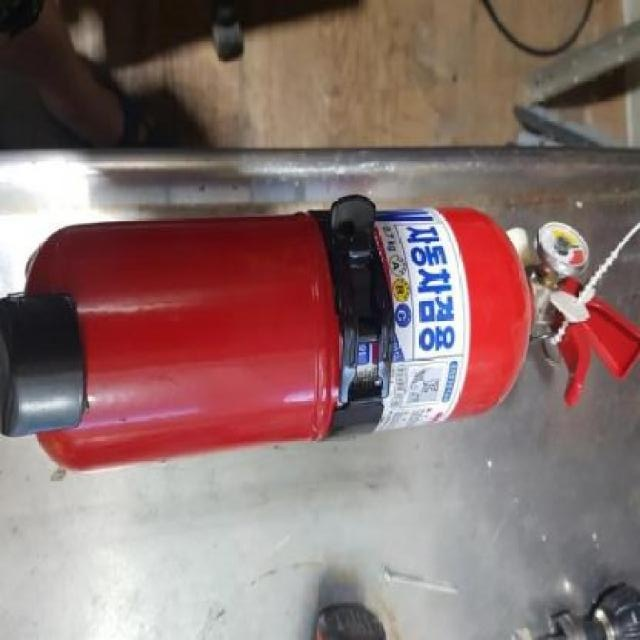fire extinguisher: (0, 194, 640, 475)
